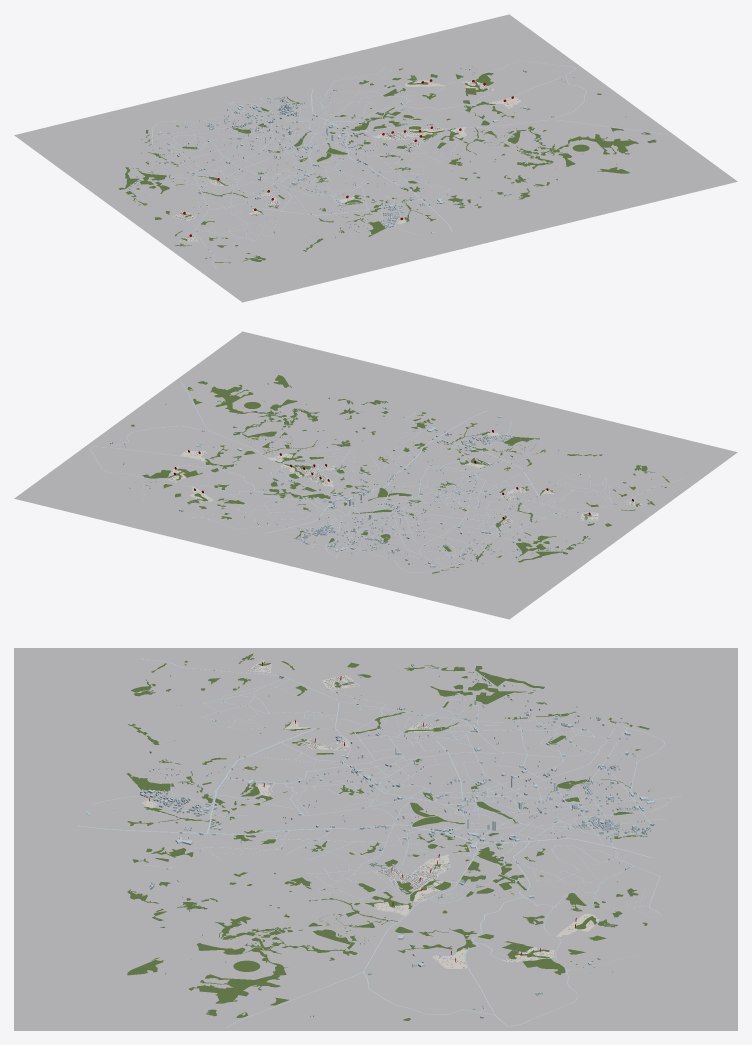
File: map26.glb
The picture shows the model from 3 angles, top to bottom: view 1: azimuth 30°, elevation 25°; view 2: azimuth 150°, elevation 25°; view 3: azimuth 270°, elevation 25°; orthographic projection. The views are drawn at different scales.
Parts seen in each view (by area): view 1: Chao, Vegetacao, Construcoes, 1-RuasPrincipais, 2-RuasPrimarias, 3-RuasSecundarias, c_casas, 4-RuasTerciarias; view 2: Chao, Vegetacao, Construcoes, 1-RuasPrincipais, 2-RuasPrimarias, 3-RuasSecundarias, c_casas, 4-RuasTerciarias; view 3: Chao, Vegetacao, Construcoes, 1-RuasPrincipais, 3-RuasSecundarias, 2-RuasPrimarias, 4-RuasTerciarias, c_casas.
Part boxes in pixels (left/top/right/bottom): Chao: left=14, top=14, right=737, bottom=302; Vegetacao: left=118, top=68, right=656, bottom=263; Construcoes: left=130, top=61, right=626, bottom=257; 1-RuasPrincipais: left=210, top=65, right=666, bottom=234; 2-RuasPrimarias: left=152, top=61, right=558, bottom=269; 3-RuasSecundarias: left=164, top=64, right=475, bottom=240; c_casas: left=174, top=80, right=518, bottom=240; 4-RuasTerciarias: left=178, top=70, right=481, bottom=241; Chao: left=14, top=331, right=737, bottom=619; Vegetacao: left=131, top=375, right=669, bottom=573; Construcoes: left=110, top=383, right=652, bottom=567; 1-RuasPrincipais: left=90, top=381, right=565, bottom=543; 2-RuasPrimarias: left=93, top=454, right=681, bottom=572; 3-RuasSecundarias: left=142, top=445, right=612, bottom=562; c_casas: left=167, top=433, right=642, bottom=525; 4-RuasTerciarias: left=187, top=412, right=630, bottom=538; Chao: left=14, top=648, right=737, bottom=1030; Vegetacao: left=126, top=653, right=649, bottom=1020; Construcoes: left=86, top=671, right=654, bottom=1018; 1-RuasPrincipais: left=78, top=702, right=651, bottom=1027; 3-RuasSecundarias: left=203, top=677, right=647, bottom=969; 2-RuasPrimarias: left=141, top=658, right=680, bottom=1019; 4-RuasTerciarias: left=141, top=667, right=651, bottom=918; c_casas: left=144, top=660, right=592, bottom=968.
Size of the model in its own units: 893 by 10.32 by 714.
